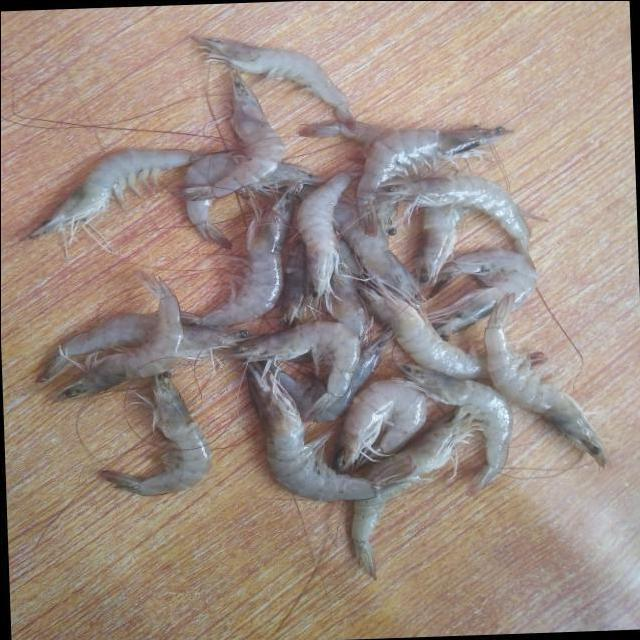shrimp: (246, 362, 416, 502), (351, 408, 482, 579), (485, 293, 611, 467), (355, 125, 516, 237), (55, 271, 182, 400), (191, 34, 355, 129), (28, 148, 199, 239), (376, 175, 536, 270), (397, 363, 513, 493), (37, 313, 258, 381), (200, 182, 300, 326), (174, 72, 284, 200), (99, 372, 211, 496), (184, 153, 327, 249), (359, 284, 490, 379), (230, 321, 360, 415), (277, 329, 393, 422), (334, 199, 426, 315), (429, 248, 538, 336), (297, 166, 364, 309), (335, 379, 427, 472), (416, 204, 468, 296)
